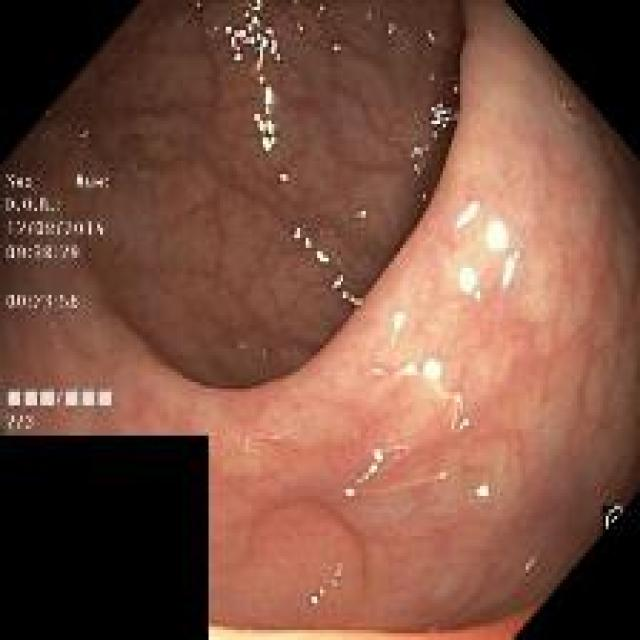Polyps: (242, 503, 362, 628)
